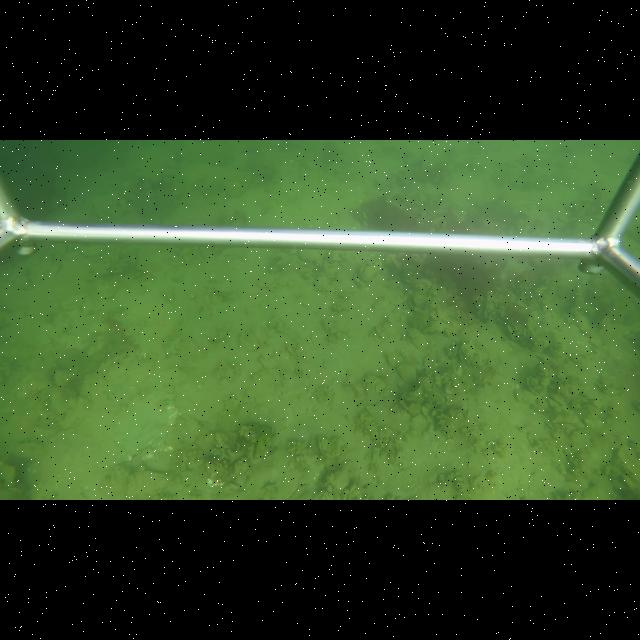Oyster-Closed: (314, 435, 345, 461), (357, 258, 383, 287)
